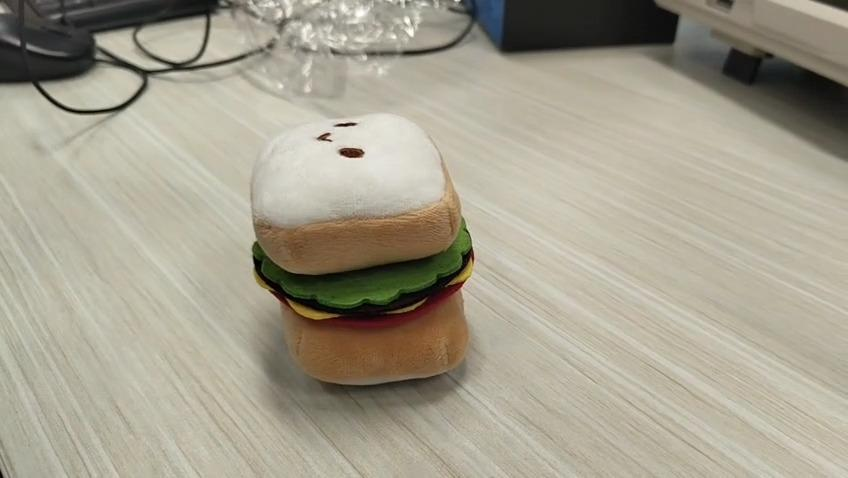objects: (249, 113, 477, 388)
